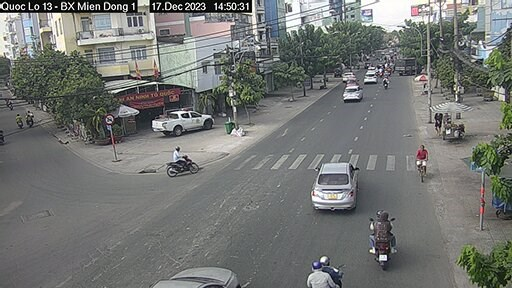car: (308, 155, 362, 208), (147, 102, 214, 133), (344, 85, 362, 109)
motorbike: (359, 205, 398, 276), (159, 147, 188, 181)
